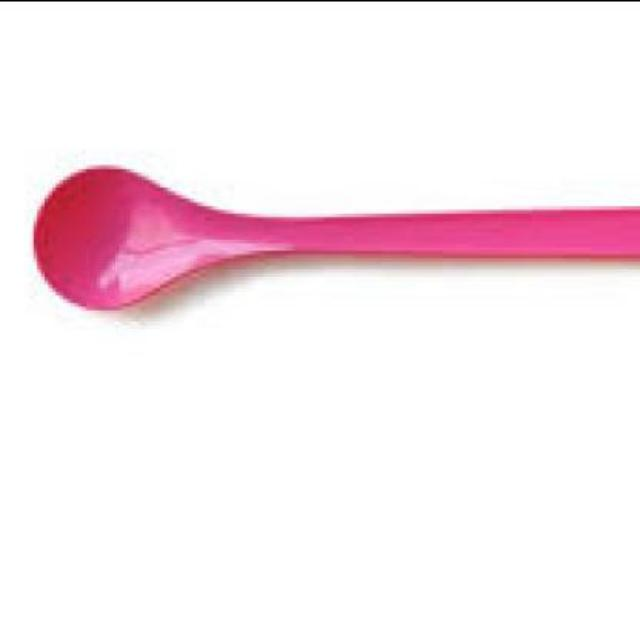plastic_cultery: (28, 162, 636, 308)
